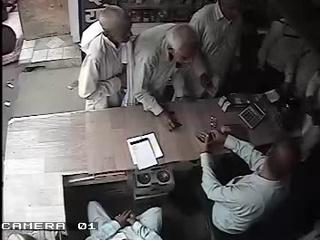Normal: (197, 122, 300, 240), (130, 22, 216, 130), (188, 0, 262, 97), (85, 200, 164, 240)
shoplifting: (77, 5, 133, 110)
